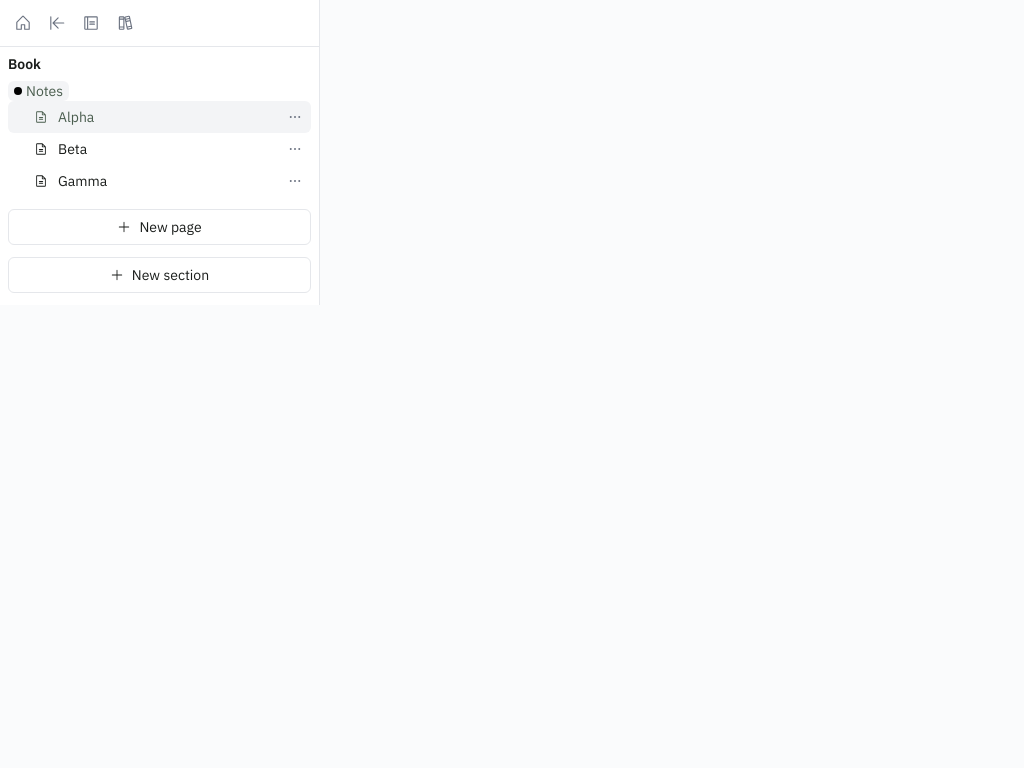
Sidebar page actions › clearing a page that is not open warns that it cannot be undone
The image size is (1024, 768).
Right-click the button "Gamma" at (152, 181), box [28,168,275,194]
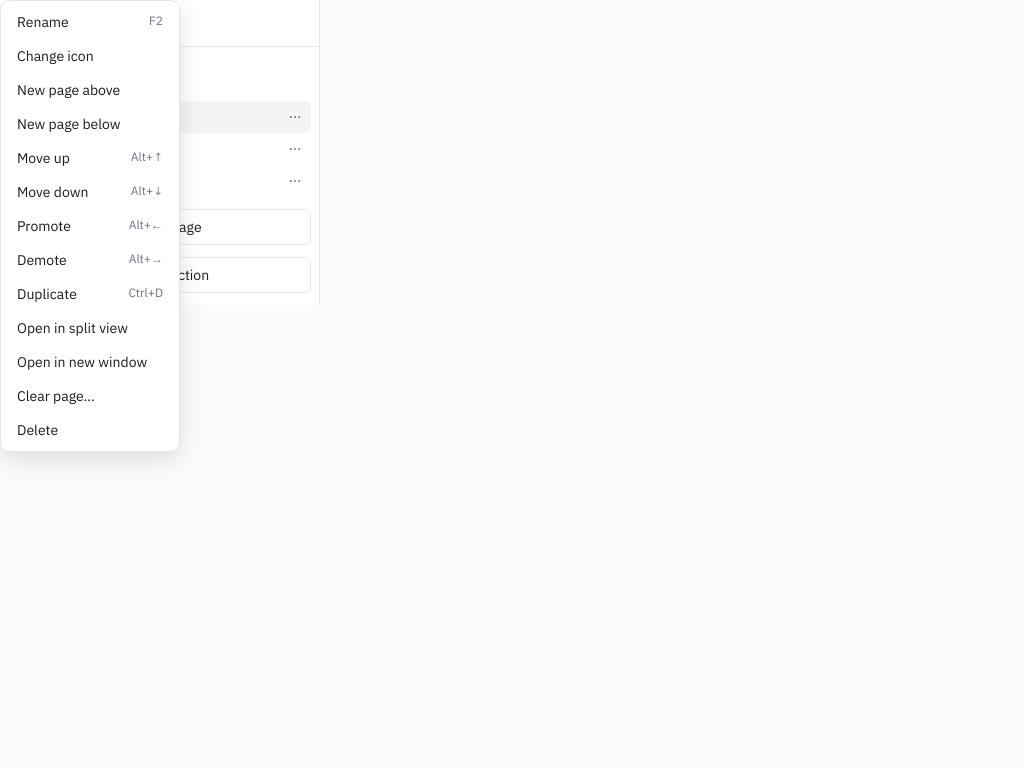
Click the menu item "Clear page…" at (90, 396), box [5,379,175,413]
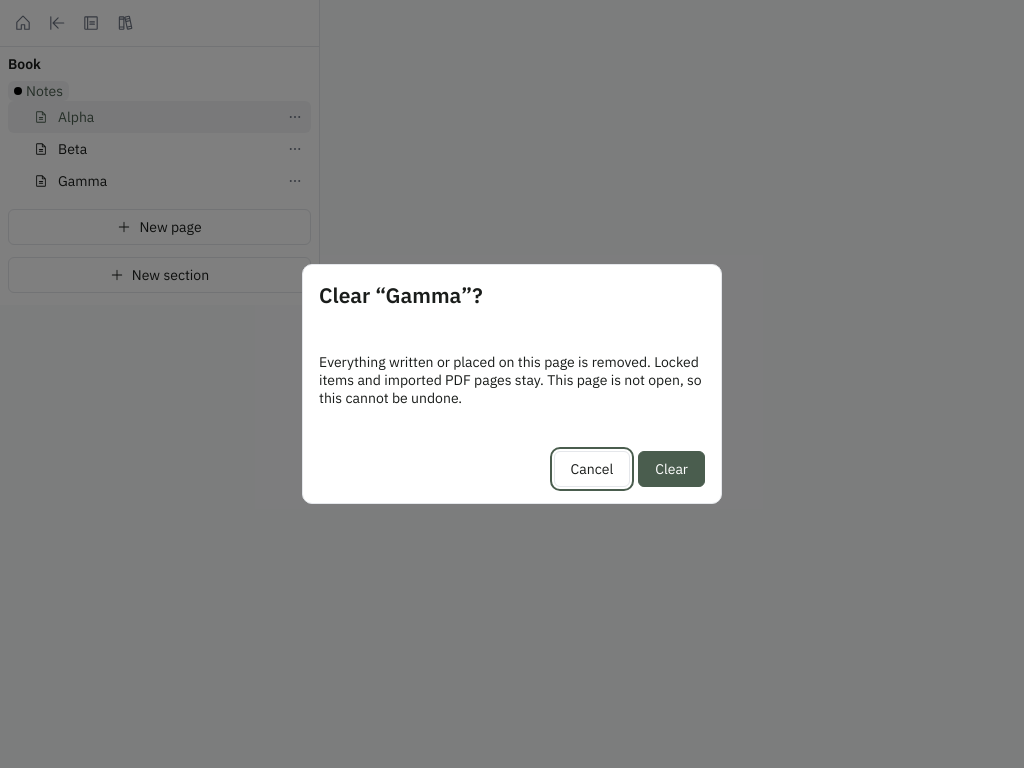
Now the dialog shows "cannot be undone", box [319,353,702,407]
